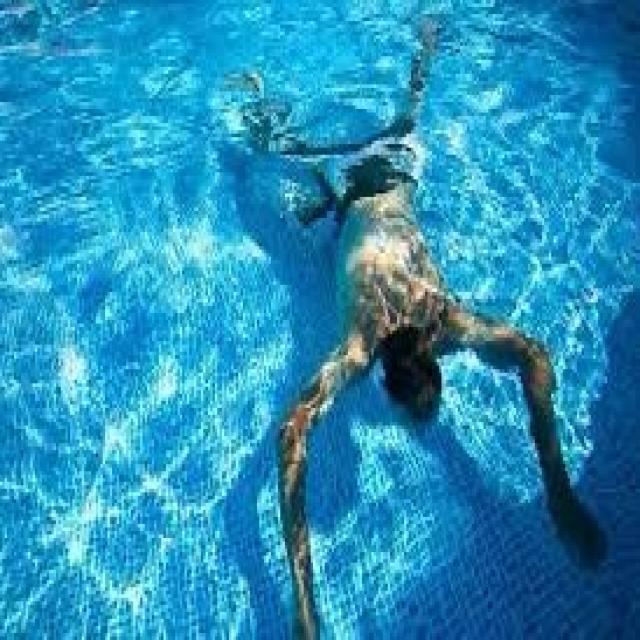Swimming: (233, 52, 612, 640)
